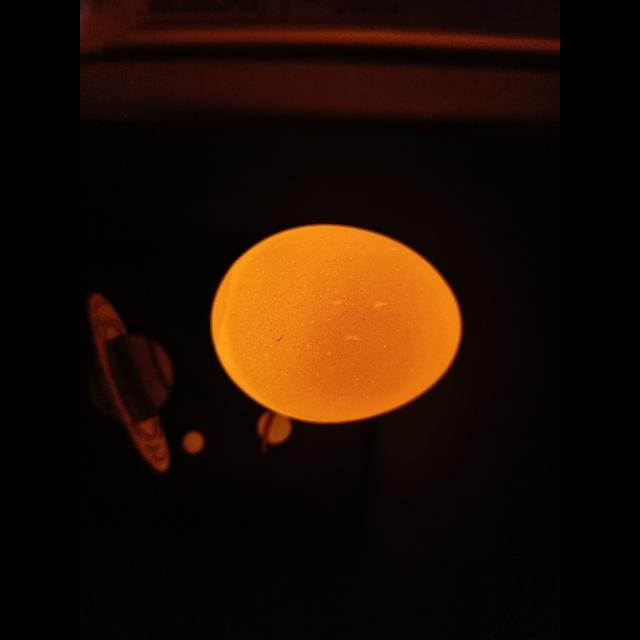AA - Premium: (211, 225, 461, 423), (314, 280, 318, 283)
